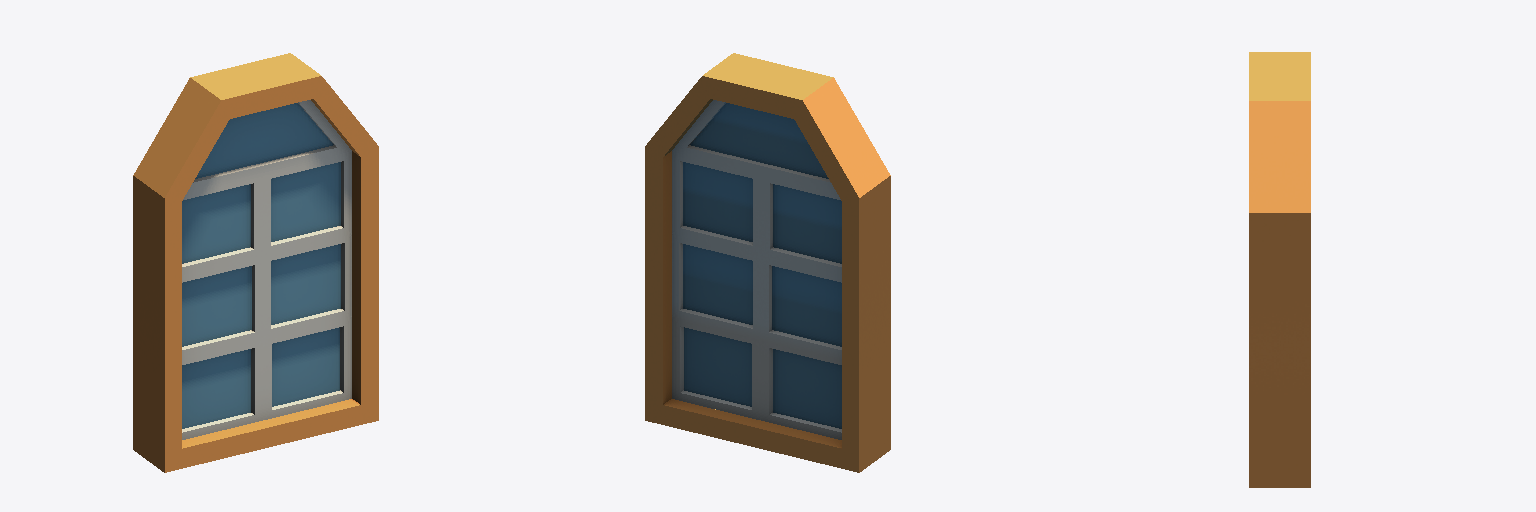
The picture shows the model from 3 angles: view 1: azimuth 30°, elevation 25°; view 2: azimuth 150°, elevation 25°; view 3: azimuth 270°, elevation 25°; orthographic projection.
Visible parts, largest first — view 1: window; view 2: window; view 3: window.
Boxes of the visible parts, <box> form: window: <box>133,53,378,472</box>; window: <box>645,53,890,472</box>; window: <box>1249,52,1310,487</box>.
Size of the model in its own units: 1.12 by 1.79 by 0.2826.
Materials: 3 (1 with a texture image).